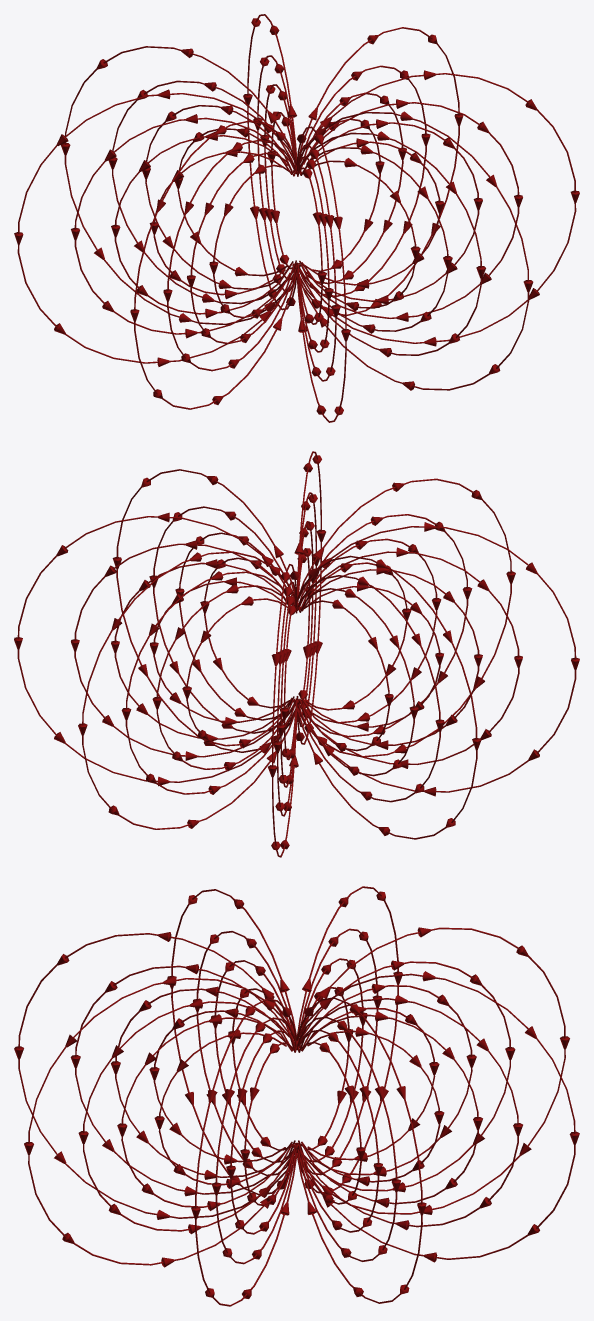
The model's file is Magnetic Field Lowpoly OBJ.obj.
The picture shows the model from 3 angles, top to bottom: view 1: azimuth 30°, elevation 25°; view 2: azimuth 150°, elevation 25°; view 3: azimuth 270°, elevation 25°; orthographic projection. The views are drawn at different scales.
Visible parts, largest first — view 1: Cylinder008_Detached040; view 2: Cylinder008_Detached040; view 3: Cylinder008_Detached040.
Boxes of the visible parts, x1,y1,x2,y2 form: Cylinder008_Detached040: [14, 14, 579, 422]; Cylinder008_Detached040: [14, 451, 579, 857]; Cylinder008_Detached040: [14, 886, 579, 1306].
Bounding box in the file's own units: 56.67 × 31.79 × 56.67.
